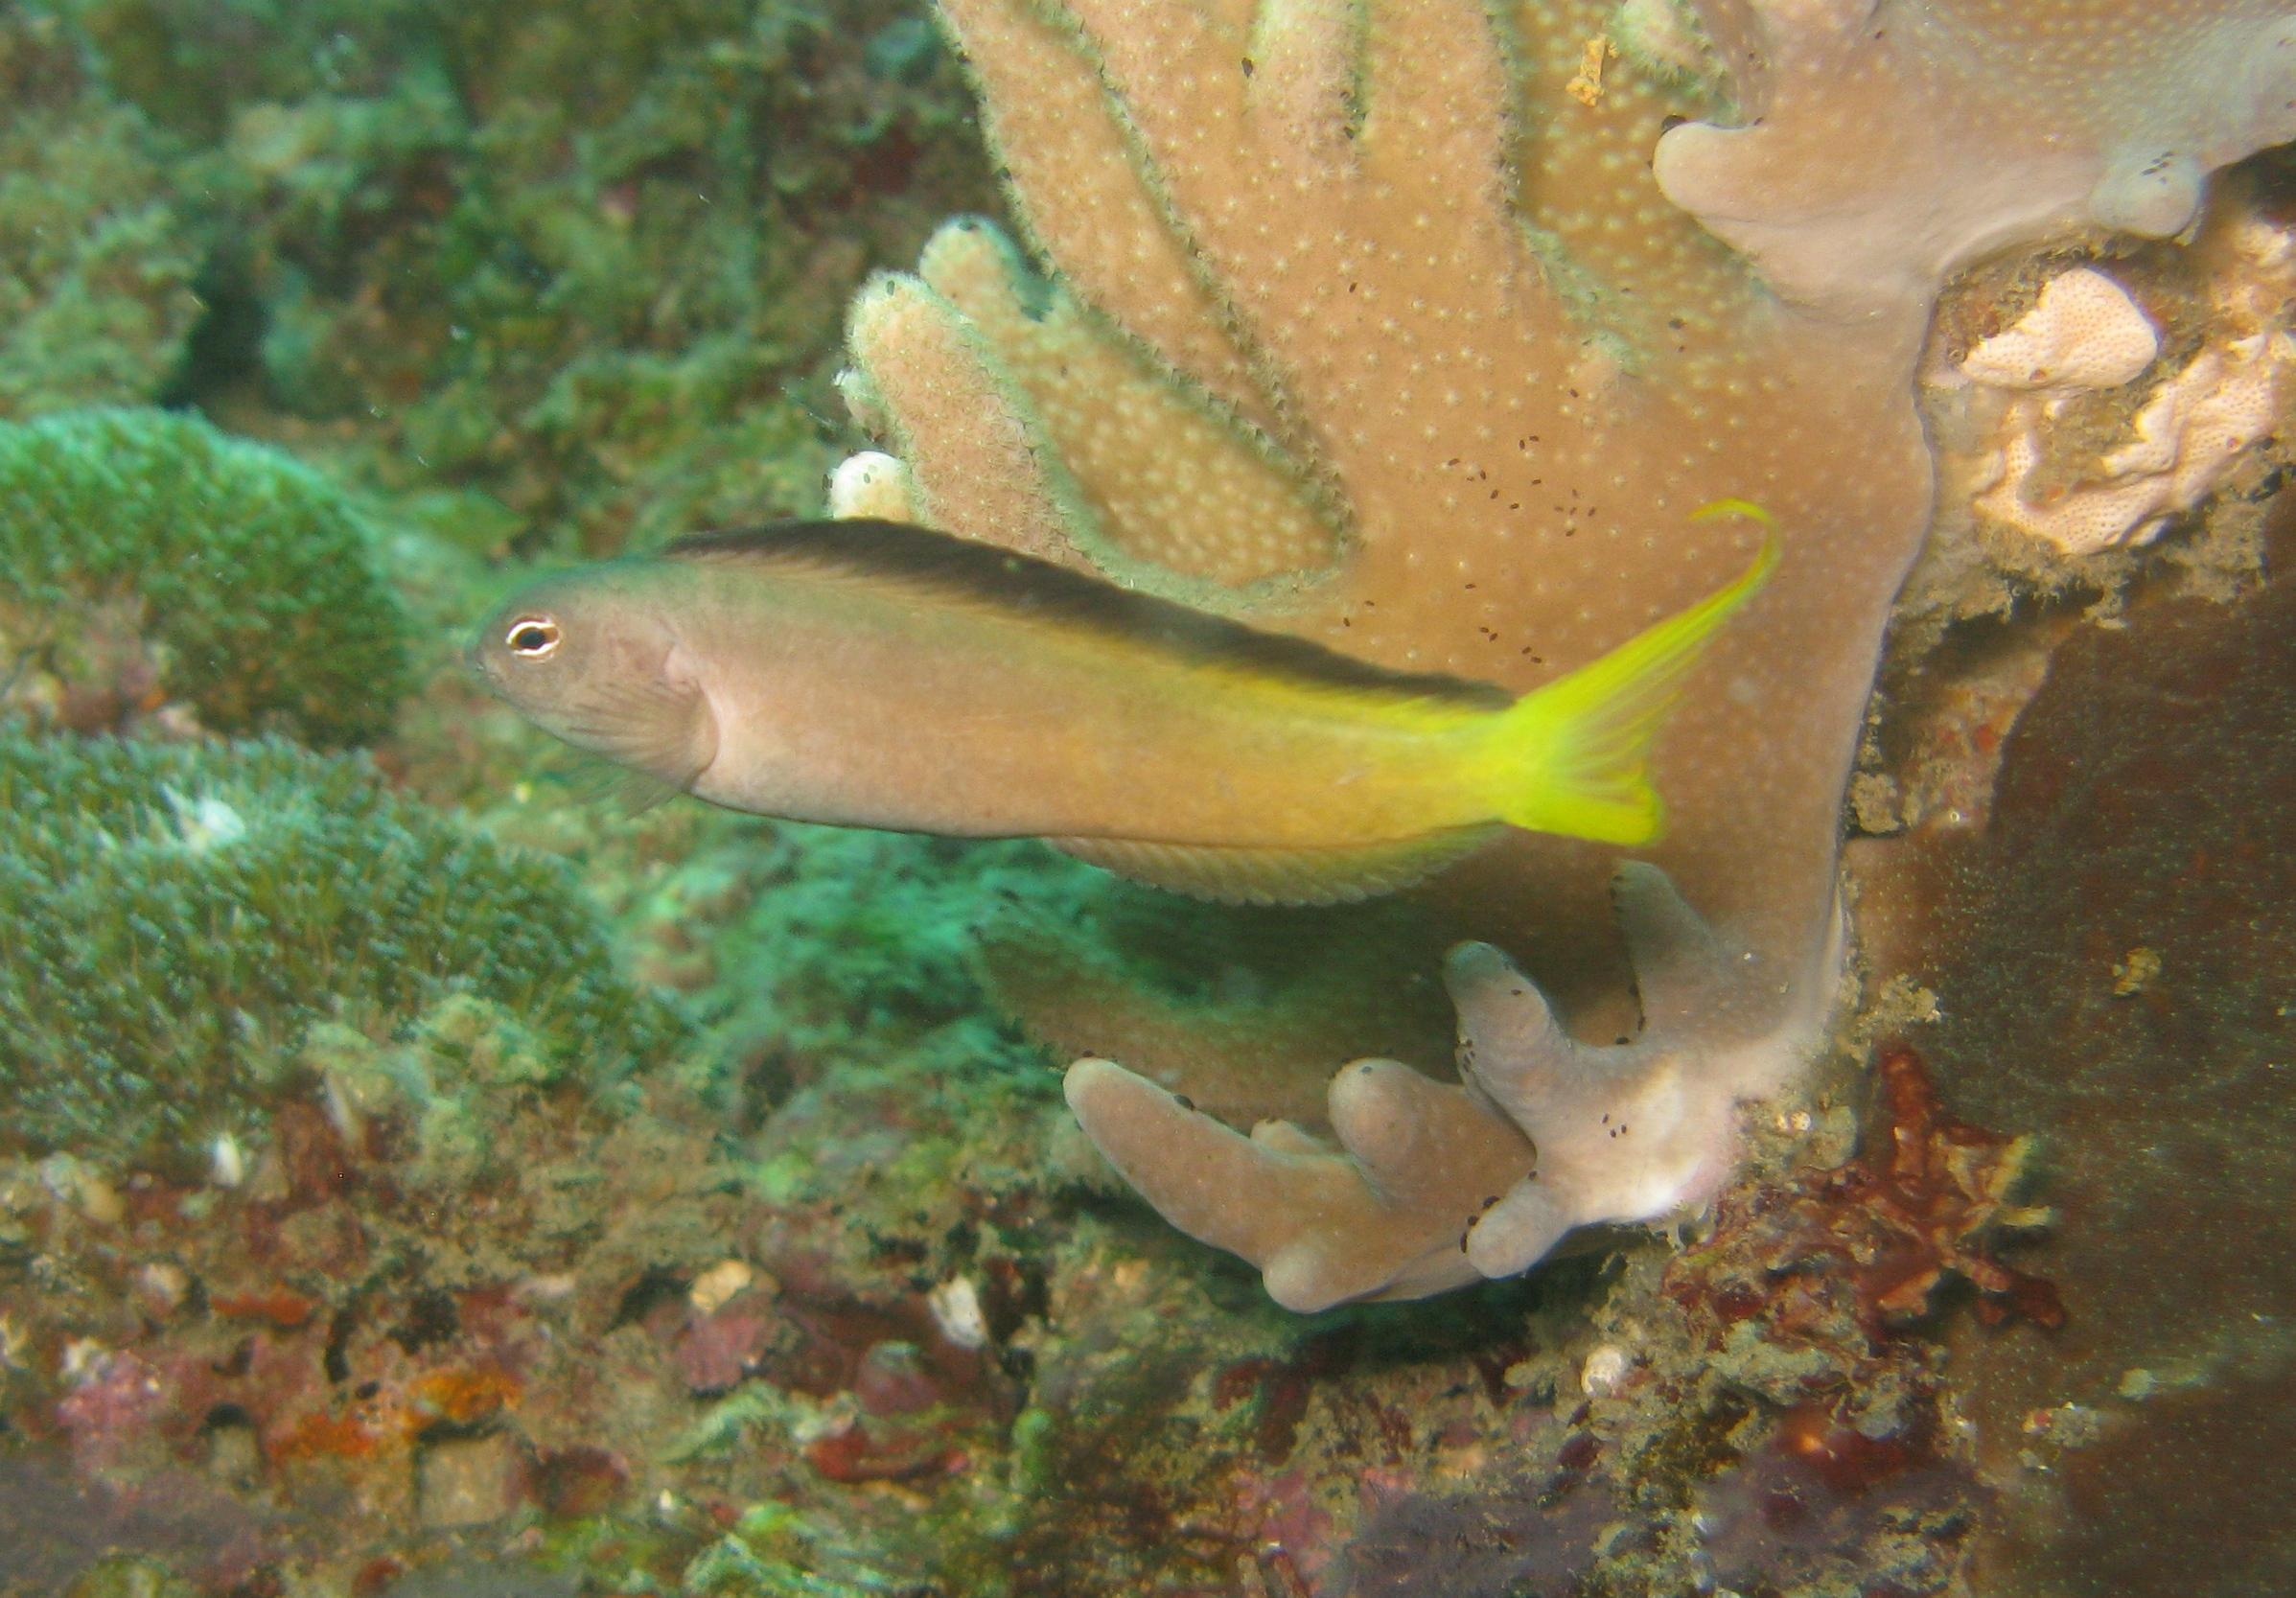Fish: (415, 413, 1839, 959)
